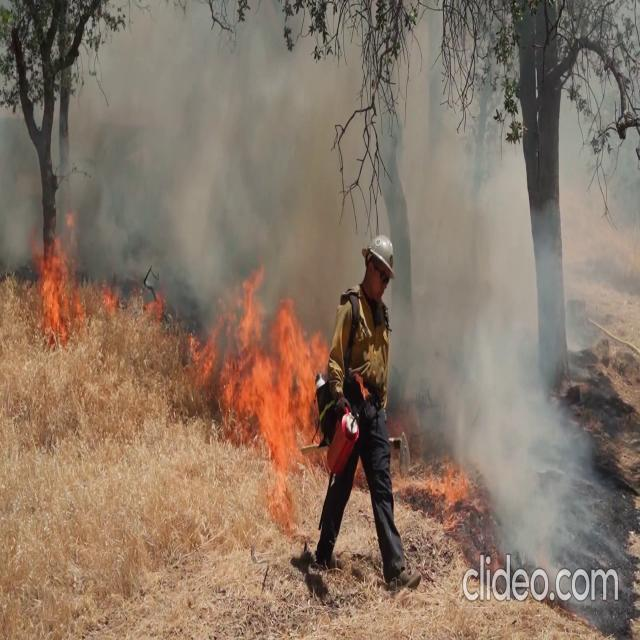Fire: (208, 280, 324, 464), (21, 219, 166, 333), (24, 217, 80, 335)
Smoke: (389, 43, 633, 586), (0, 23, 344, 288)
